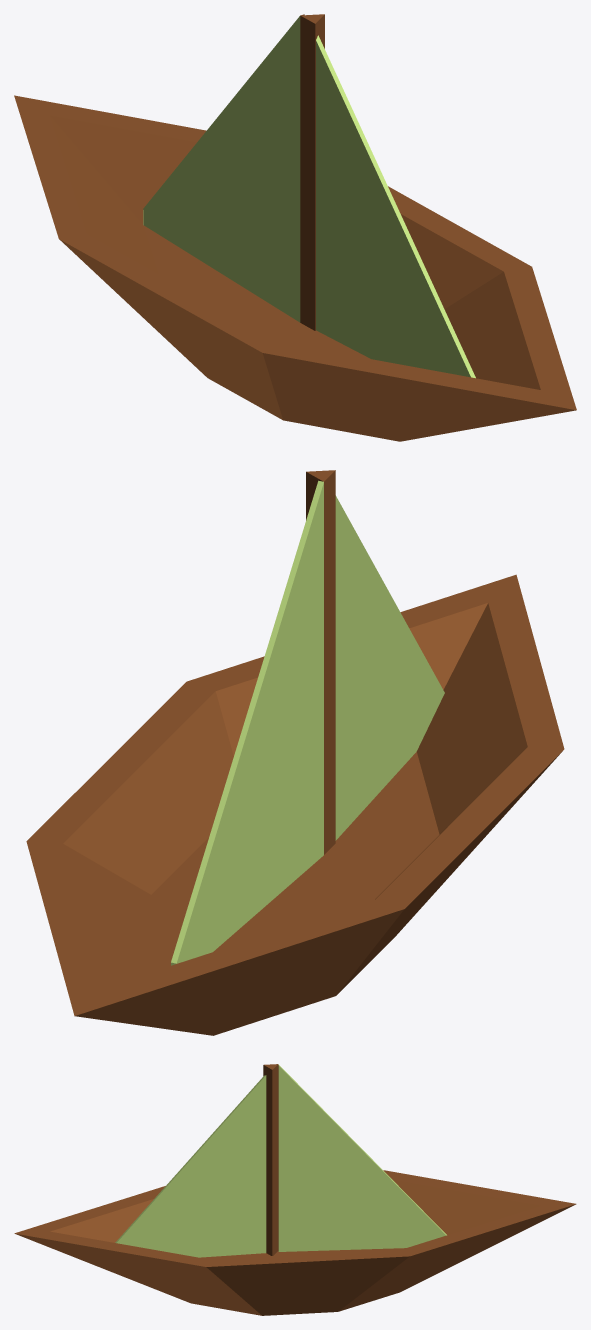
Rendered from boat01.fbx.
The picture shows the model from 3 angles, top to bottom: view 1: azimuth 30°, elevation 25°; view 2: azimuth 150°, elevation 25°; view 3: azimuth 270°, elevation 25°; orthographic projection. The views are drawn at different scales.
Visible parts, largest first — view 1: boat01; view 2: boat01; view 3: boat01.
Boxes of the visible parts, left/top/right/bottom form: boat01: left=14, top=14, right=576, bottom=441; boat01: left=26, top=470, right=564, bottom=1035; boat01: left=14, top=1064, right=576, bottom=1315.
Bounding box in the file's own units: 62.47 × 69.56 × 154.
